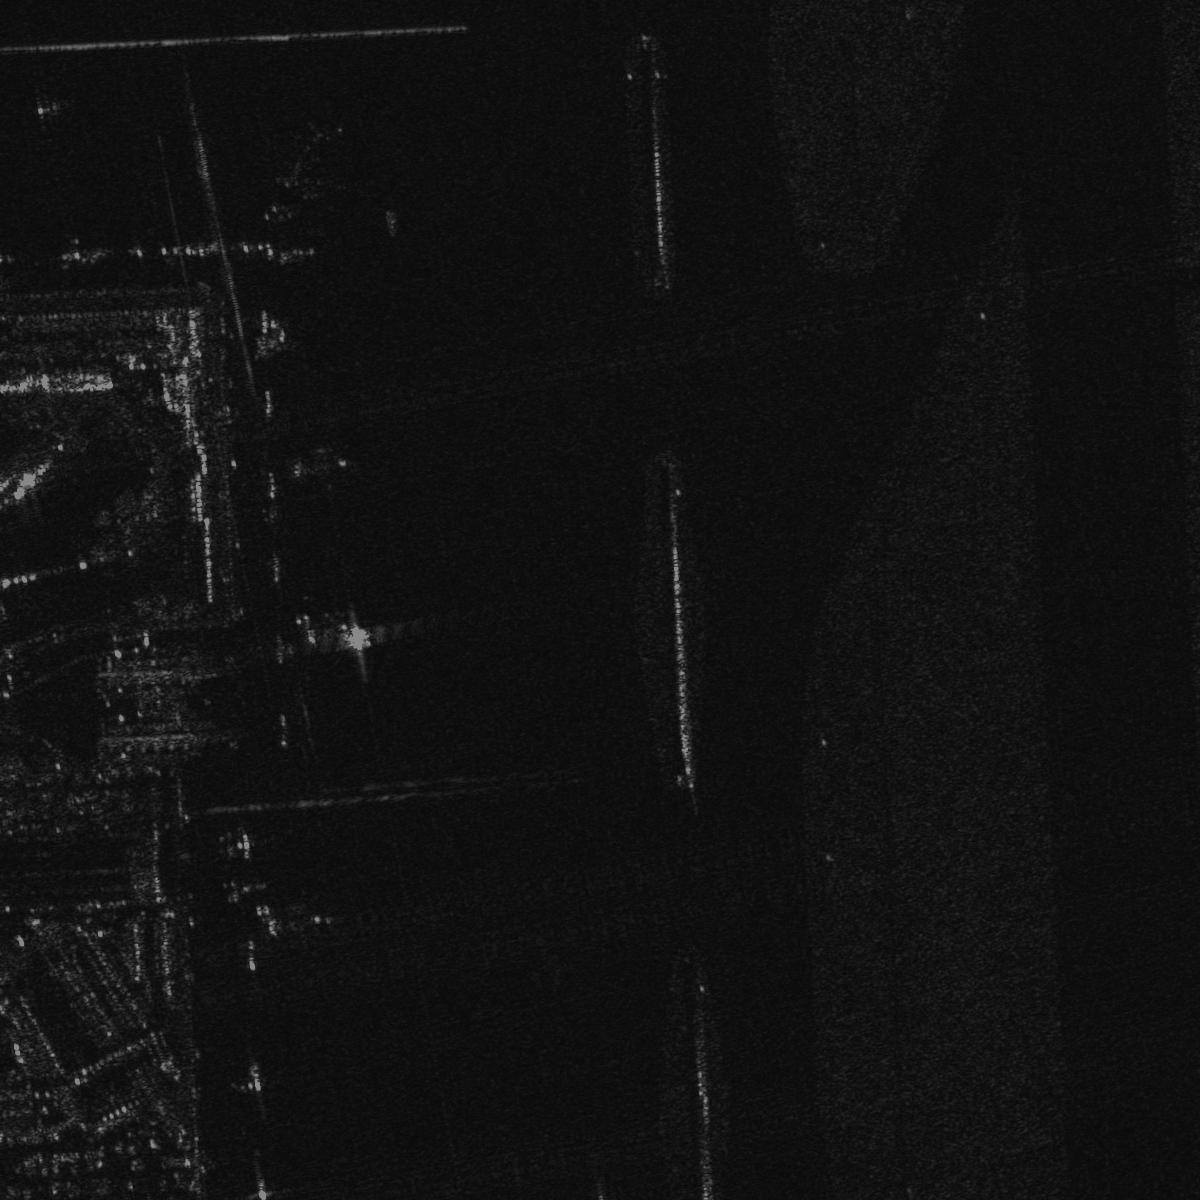A220: (279, 427, 357, 492), (235, 1063, 280, 1118), (211, 830, 271, 864), (236, 1168, 291, 1199), (245, 900, 282, 940)
other: (218, 878, 275, 904)
